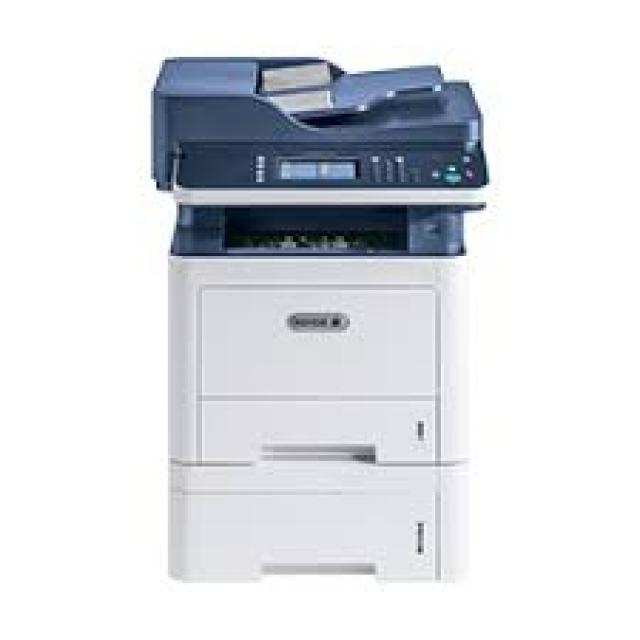printer: (122, 24, 524, 618)
